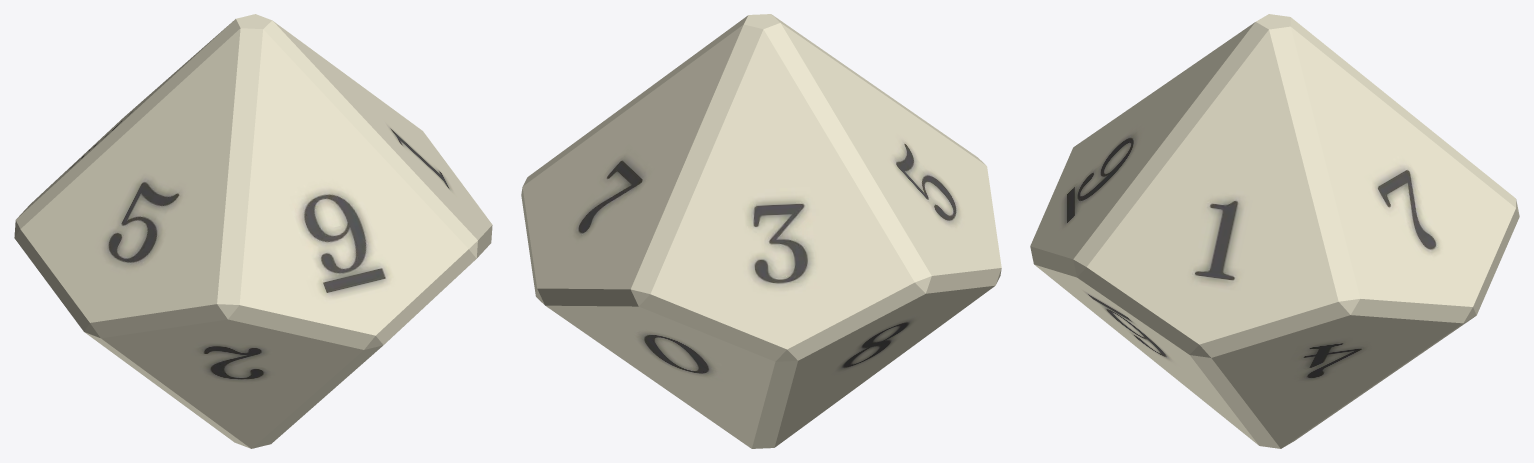
3 views of the same model, side by side, from view 1: azimuth 30°, elevation 25°; view 2: azimuth 150°, elevation 25°; view 3: azimuth 270°, elevation 25° (orthographic).
Parts seen in each view (by area): view 1: D10; view 2: D10; view 3: D10.
Boxes of the visible parts, x1,y1,x2,y2 form: D10: (14,14,492,448); D10: (521,14,1001,448); D10: (1030,14,1519,448).
Bounding box in the file's own units: 2.95 × 2.93 × 3.1.
Materials: 1 (1 with a texture image).
